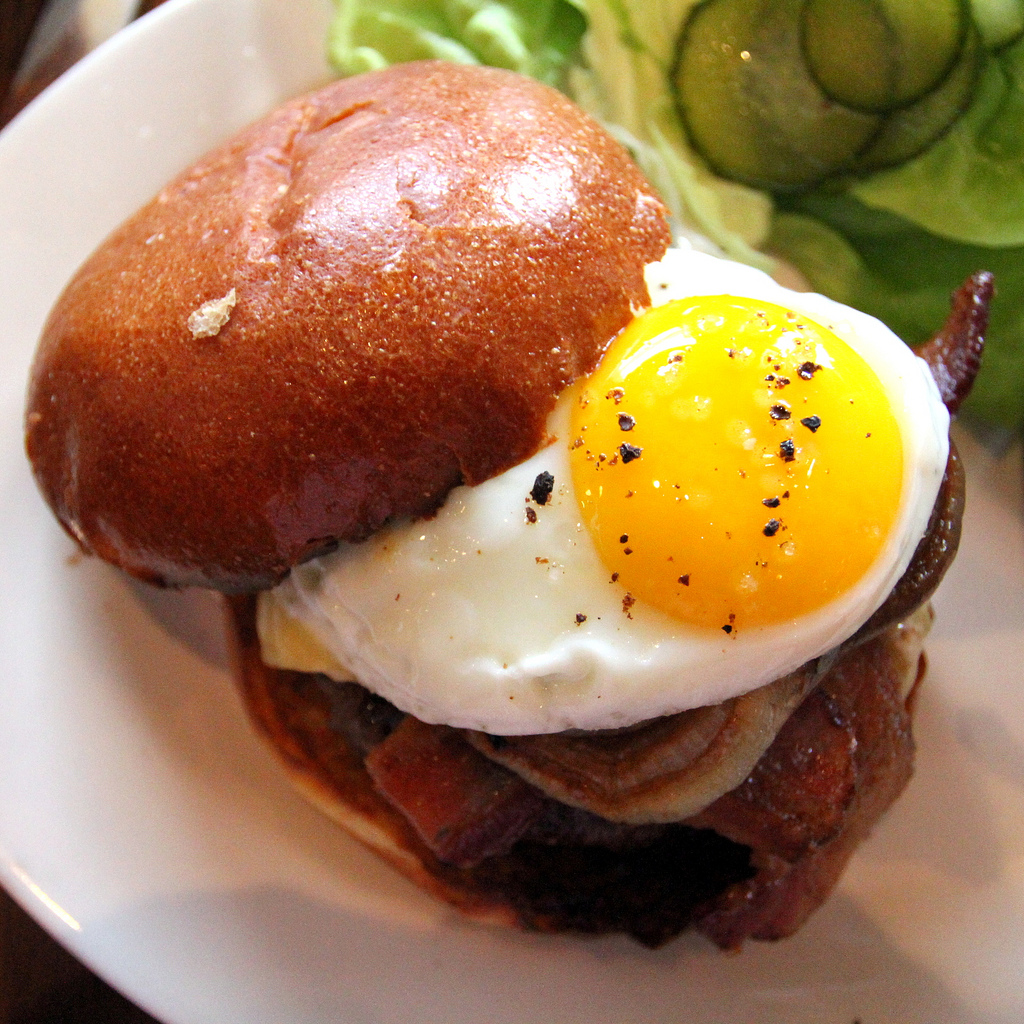chopped lettuce: (657, 6, 1024, 260)
fried egg: (376, 278, 943, 735)
slice of bread: (19, 70, 666, 573)
